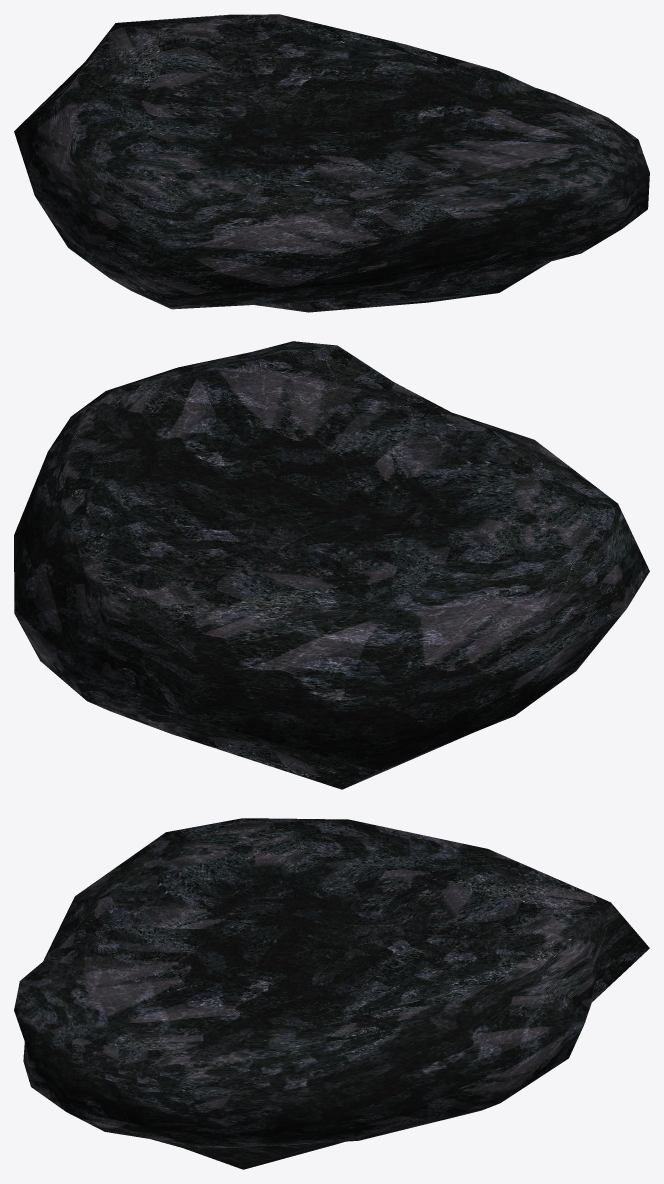
The model's file is asteroid_obsidian_radial_s01_l0.fbx.
3 renders of one model, top to bottom at view 1: azimuth 30°, elevation 25°; view 2: azimuth 150°, elevation 25°; view 3: azimuth 270°, elevation 25°, orthographic. The views are drawn at different scales.
Visible parts, largest first — view 1: mesh_node; view 2: mesh_node; view 3: mesh_node.
Part boxes in pixels (box(x1,y1,x2,y2)): mesh_node: box(14, 14, 649, 312); mesh_node: box(14, 341, 649, 789); mesh_node: box(14, 818, 649, 1169).
Bounding box in the file's own units: 5.04 × 1.97 × 5.27.
